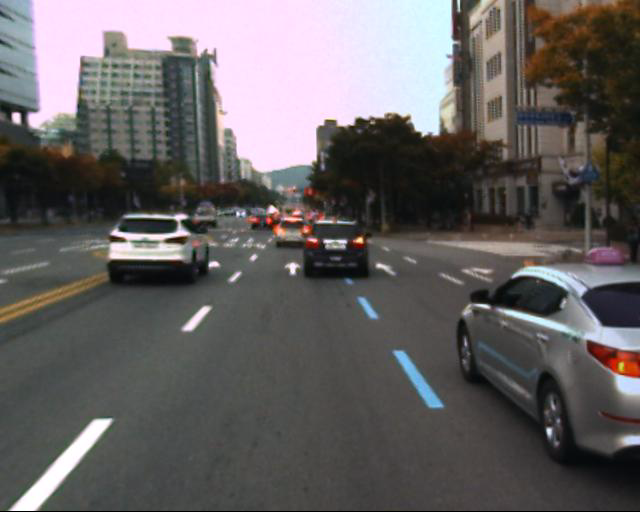person: (614, 218, 640, 268)
